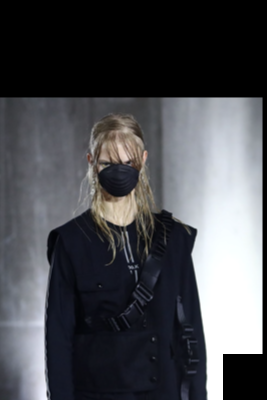with_mask: (95, 154, 143, 197)
